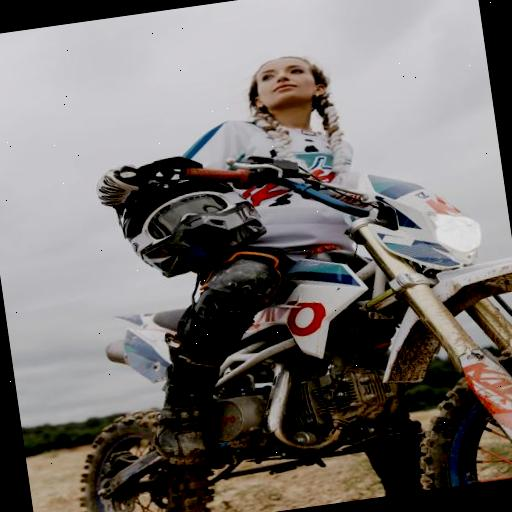no helmet: (180, 19, 481, 512)
